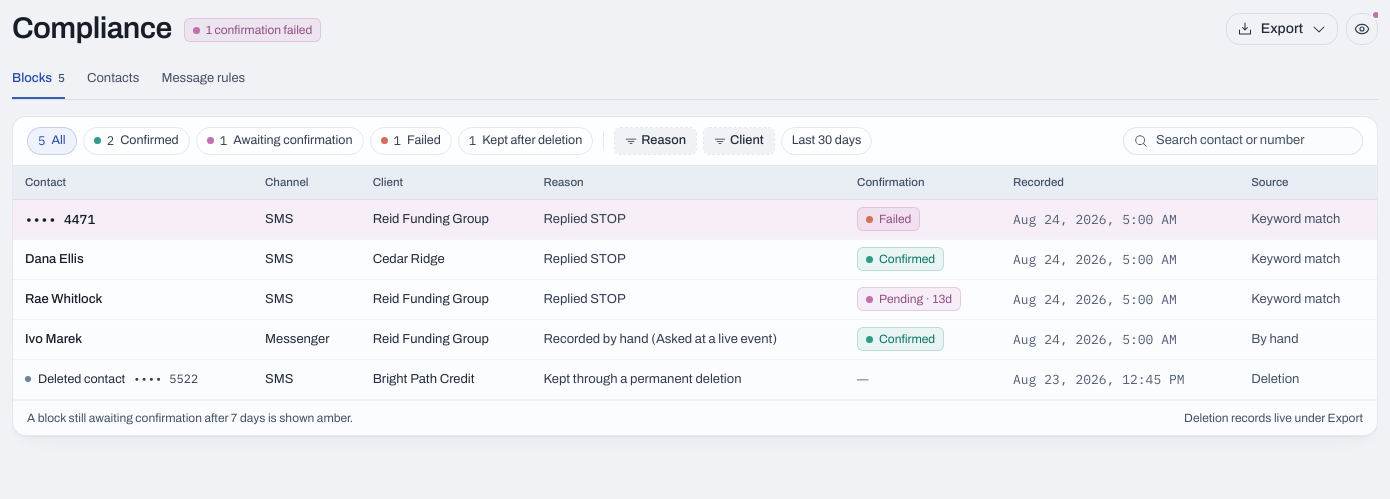
Test: OwnerCompliance, review fixes › carries both exports under one header control
The image size is (1390, 499).
Click the button "Export".
click(1282, 29)  # box [1226,13,1338,45]
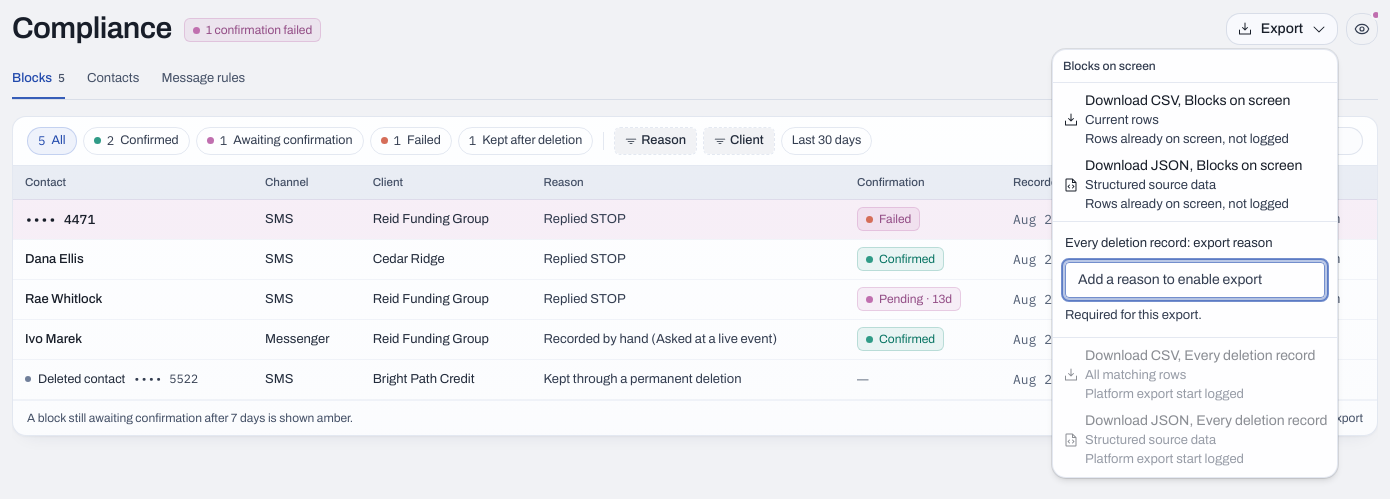
Now the menu item "Download CSV, Blocks on screen" is shown, box [1063,93,1290,146]
Now the menu item "Download CSV, Every deletion record" is shown, box [1057,342,1333,407]
